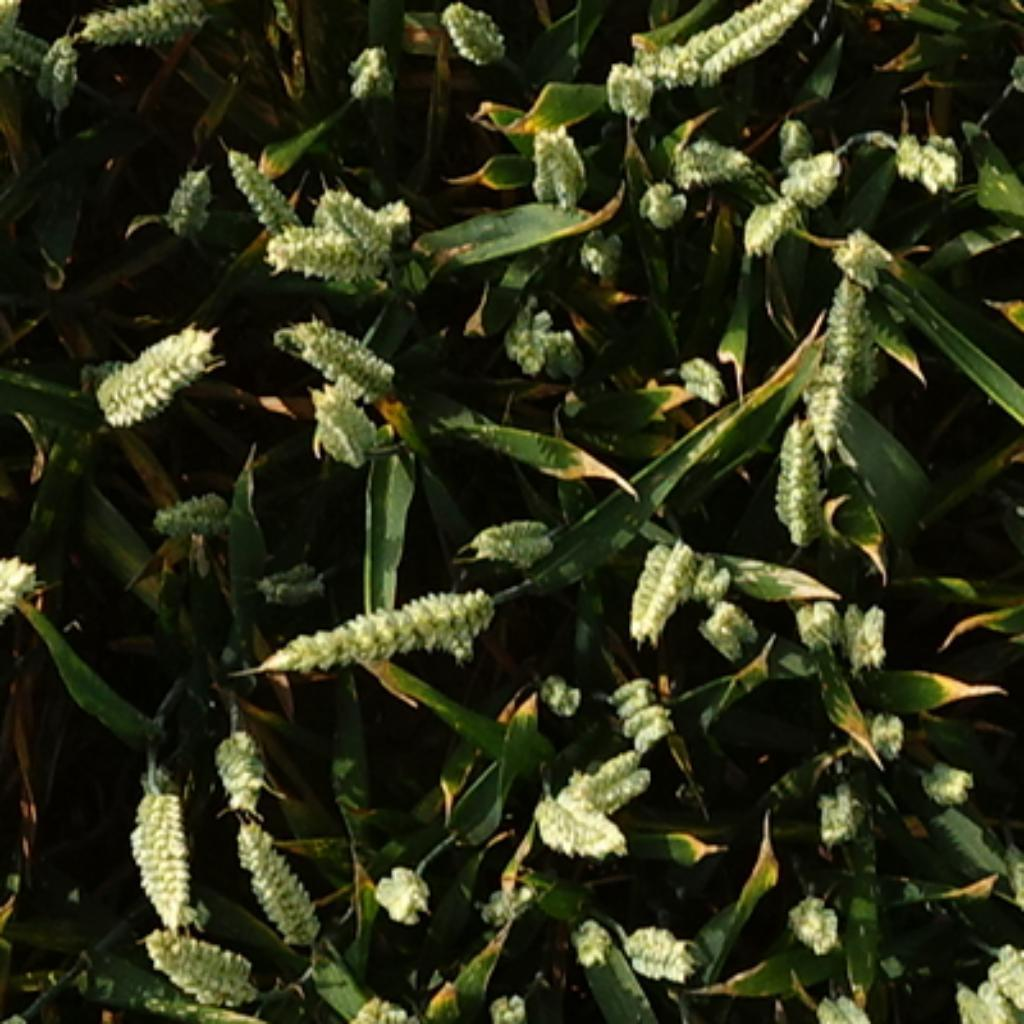0-0: (251, 580, 491, 680), (87, 309, 220, 424), (230, 806, 327, 936), (122, 778, 202, 929), (673, 0, 821, 81), (140, 913, 263, 1000), (814, 268, 888, 412), (522, 762, 634, 855), (279, 304, 401, 389), (623, 538, 708, 643), (266, 215, 391, 286), (547, 742, 657, 814), (768, 417, 832, 535), (494, 291, 581, 373), (791, 350, 862, 450), (220, 138, 299, 225), (79, 0, 217, 48), (307, 371, 381, 458), (314, 179, 391, 261), (522, 110, 591, 199), (0, 22, 80, 96), (207, 727, 273, 814), (663, 122, 755, 184), (770, 133, 844, 207), (151, 476, 240, 537), (468, 504, 560, 563), (739, 181, 814, 253), (616, 911, 696, 977), (431, 1, 513, 62), (778, 888, 844, 957), (693, 588, 760, 655), (158, 156, 217, 230), (969, 930, 1024, 1009), (368, 860, 432, 924), (890, 138, 965, 192), (839, 596, 893, 670), (829, 220, 896, 279), (340, 30, 399, 97), (250, 547, 325, 599), (45, 22, 91, 106), (471, 880, 545, 929), (952, 972, 1021, 1024), (811, 783, 865, 847), (670, 353, 732, 407), (596, 61, 652, 120), (913, 755, 975, 806), (637, 166, 691, 222), (576, 222, 627, 281), (634, 40, 701, 84), (857, 706, 913, 757), (791, 596, 839, 655), (535, 668, 588, 719), (565, 908, 614, 962), (775, 117, 816, 179), (622, 704, 678, 744), (814, 982, 867, 1024), (693, 555, 734, 609), (606, 675, 660, 711), (373, 202, 419, 240)
